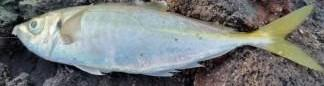fish: (11, 1, 323, 77)
